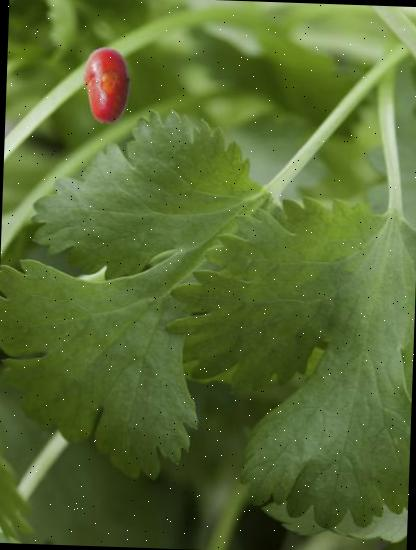Potato: (67, 45, 149, 127)
